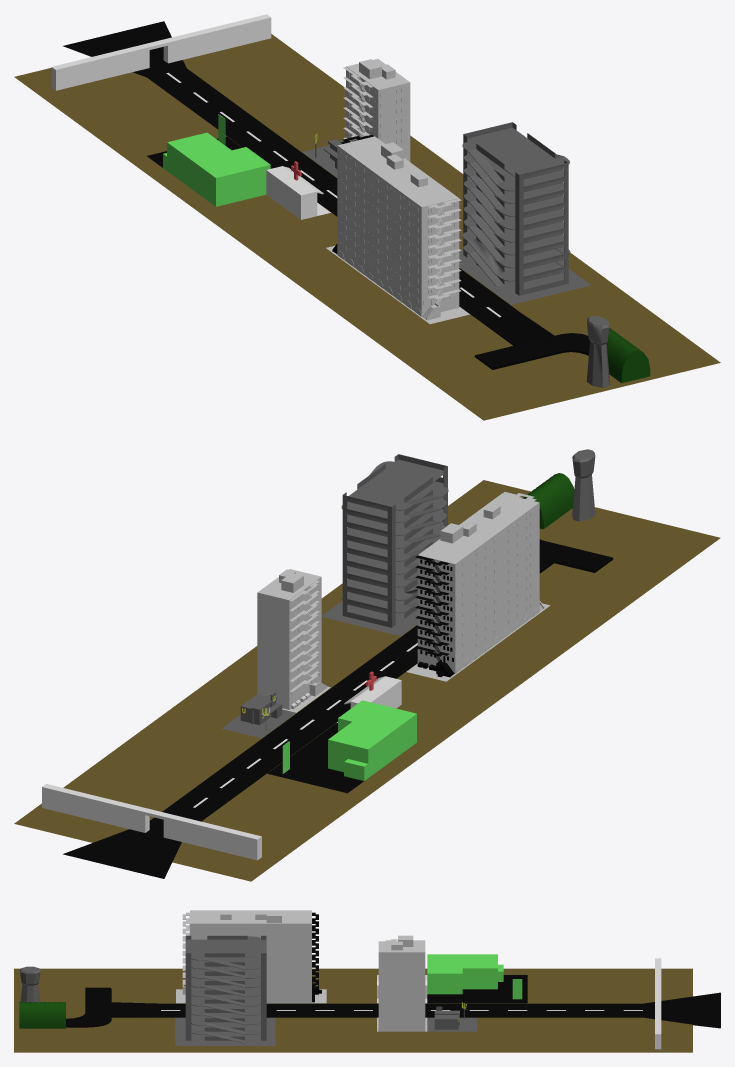
The model's file is MainMenu.glb.
3 views of the same model, one above another, from view 1: azimuth 30°, elevation 25°; view 2: azimuth 150°, elevation 25°; view 3: azimuth 270°, elevation 25° (orthographic). The views are drawn at different scales.
Visible parts, largest first — view 1: 3x2_Runway.col, 3x1_Apartments.col, 2x2_ParkingGarage.col, Plane, 2x2_Supermarket.col, Cube, 1x1_Apartments.col, 3x2_Runway.col.002, 1x1_Hospital.col.001, 3x2_Runway.col.003, 3x2_Runway.col.001, 1x1_Waccas.col; view 2: 3x2_Runway.col, 2x2_ParkingGarage.col, 3x1_Apartments.col, Plane, 1x1_Apartments.col, Cube, 2x2_Supermarket.col, 3x1_Apartments.col.002, 2x2_Supermarket.col.001, 3x1_Apartments.col.001, 1x1_Waccas.col, 3x2_Runway.col.003 (+4 smaller); view 3: 3x2_Runway.col, 2x2_ParkingGarage.col, Plane, 3x1_Apartments.col, 1x1_Apartments.col, 2x2_Supermarket.col, 2x2_Supermarket.col.001, 3x2_Runway.col.003, 3x2_Runway.col.002, 1x1_Waccas.col, 3x2_Runway.col.001, Cube (+1 smaller).
Part boxes in pixels (left/top/right/bottom): 3x2_Runway.col: left=14, top=34, right=720, bottom=420; 3x1_Apartments.col: left=326, top=136, right=469, bottom=324; 2x2_ParkingGarage.col: left=459, top=122, right=590, bottom=304; Plane: left=63, top=21, right=554, bottom=345; 2x2_Supermarket.col: left=163, top=114, right=270, bottom=206; Cube: left=51, top=14, right=271, bottom=90; 1x1_Apartments.col: left=343, top=59, right=410, bottom=161; 3x2_Runway.col.002: left=474, top=333, right=590, bottom=369; 1x1_Hospital.col.001: left=266, top=166, right=330, bottom=219; 3x2_Runway.col.003: left=606, top=328, right=650, bottom=383; 3x2_Runway.col.001: left=586, top=315, right=609, bottom=387; 1x1_Waccas.col: left=302, top=139, right=343, bottom=177; 3x2_Runway.col: left=14, top=480, right=720, bottom=881; 2x2_ParkingGarage.col: left=321, top=454, right=448, bottom=635; 3x1_Apartments.col: left=406, top=492, right=550, bottom=681; Plane: left=63, top=557, right=554, bottom=878; 1x1_Apartments.col: left=257, top=569, right=330, bottom=712; Cube: left=42, top=784, right=261, bottom=860; 2x2_Supermarket.col: left=282, top=700, right=416, bottom=780; 3x1_Apartments.col.002: left=417, top=555, right=455, bottom=673; 2x2_Supermarket.col.001: left=267, top=723, right=363, bottom=793; 3x1_Apartments.col.001: left=415, top=555, right=454, bottom=677; 1x1_Waccas.col: left=222, top=692, right=295, bottom=738; 3x2_Runway.col.003: left=522, top=473, right=574, bottom=529; 3x2_Runway.col: left=14, top=968, right=692, bottom=1052; 2x2_ParkingGarage.col: left=175, top=935, right=275, bottom=1045; Plane: left=111, top=992, right=720, bottom=1028; 3x1_Apartments.col: left=176, top=910, right=326, bottom=1003; 1x1_Apartments.col: left=377, top=935, right=427, bottom=1031; 2x2_Supermarket.col: left=427, top=954, right=522, bottom=999; 2x2_Supermarket.col.001: left=427, top=975, right=527, bottom=1003; 3x2_Runway.col.003: left=19, top=1002, right=65, bottom=1028; 3x2_Runway.col.002: left=66, top=987, right=111, bottom=1027; 1x1_Waccas.col: left=427, top=1006, right=477, bottom=1031; 3x2_Runway.col.001: left=20, top=966, right=40, bottom=1002; Cube: left=655, top=958, right=661, bottom=1049.
Size of the model in its own units: 78.82 by 39.27 by 281.
